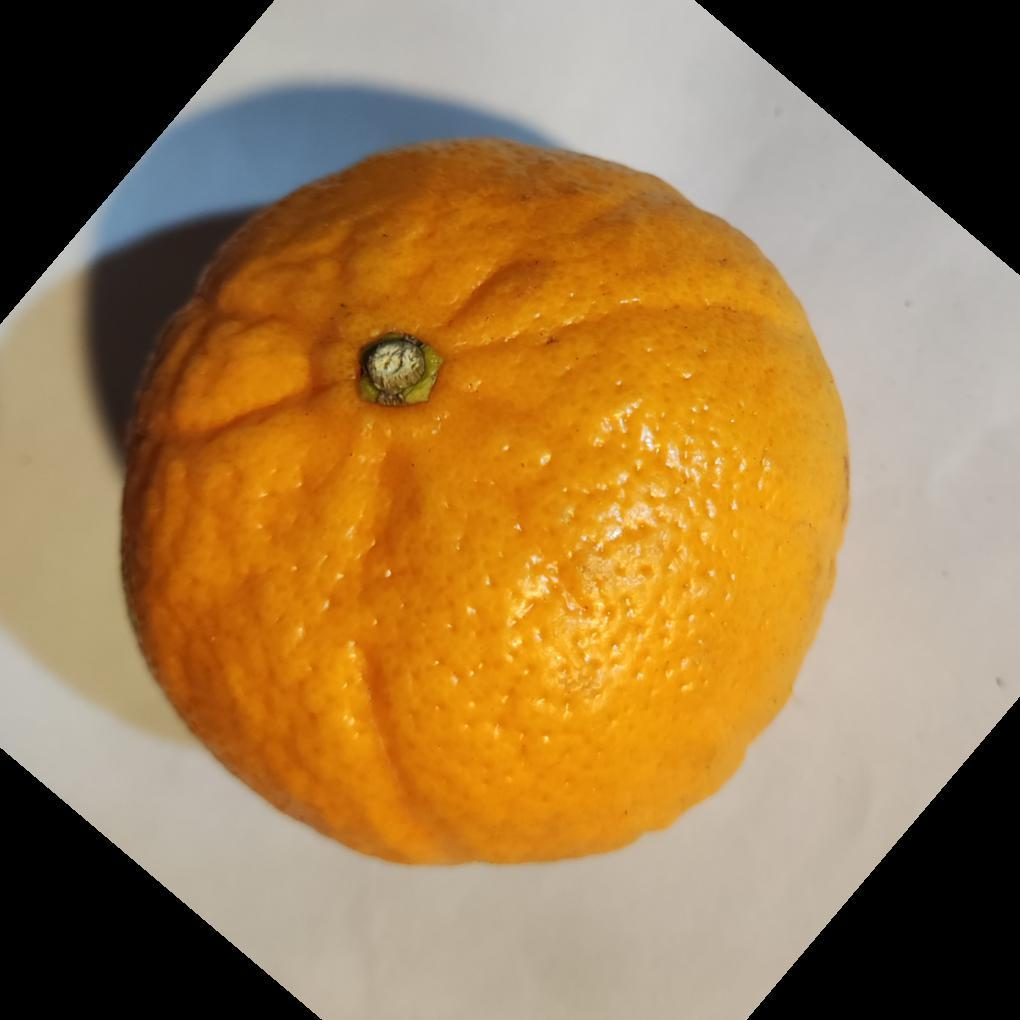FreshGuava: (117, 137, 852, 871)
